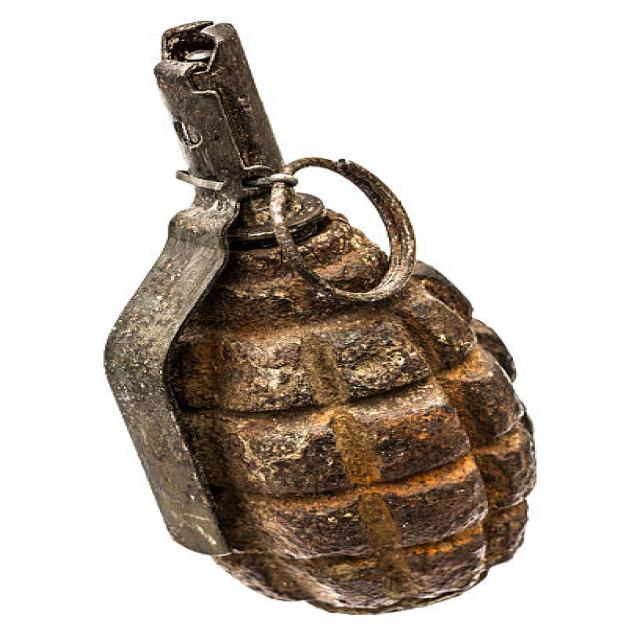grenade: (91, 10, 547, 622)
